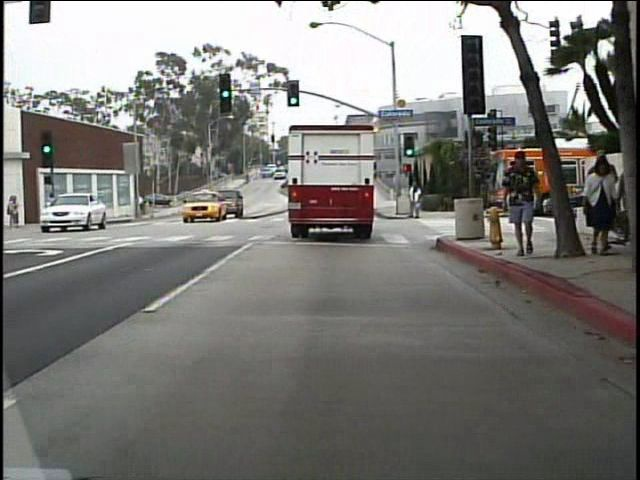person: (509, 144, 552, 262), (580, 153, 617, 252), (4, 191, 31, 237), (402, 176, 427, 222), (133, 187, 150, 220), (48, 189, 59, 207)
